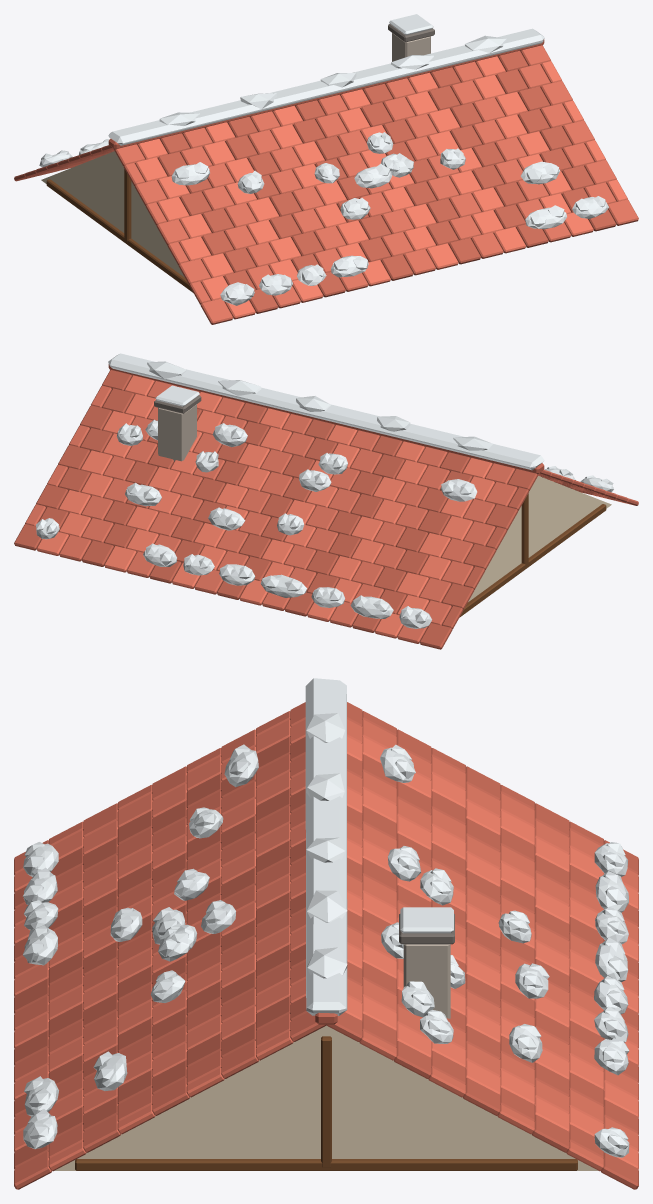
The model's file is arcade_roof.glb.
3 views of the same model, one above another, from view 1: azimuth 30°, elevation 25°; view 2: azimuth 150°, elevation 25°; view 3: azimuth 270°, elevation 25° (orthographic). The views are drawn at different scales.
Visible parts, largest first — view 1: arcade_roof; view 2: arcade_roof; view 3: arcade_roof.
Part boxes in pixels (x1,y1,x2,y2): arcade_roof: (14, 14, 638, 324); arcade_roof: (14, 353, 638, 649); arcade_roof: (14, 678, 638, 1189).
Size of the model in its own units: 7 by 1.97 by 5.59.
